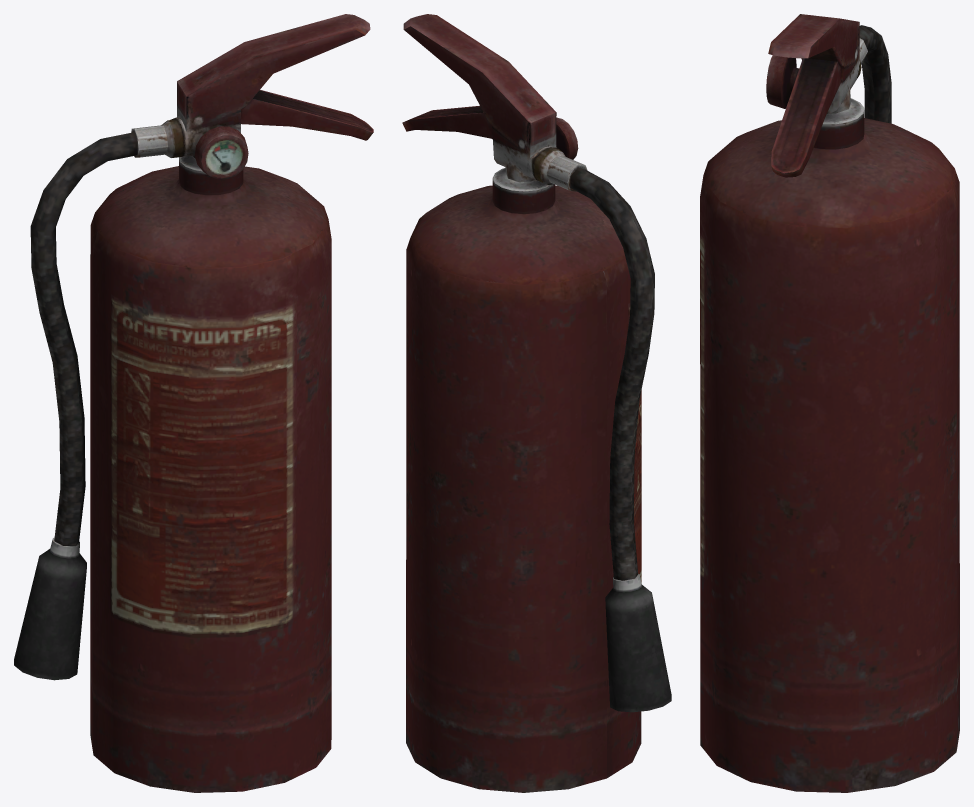
Rendered from fire_extinguisher.glb.
3 renders of one model, left to right at view 1: azimuth 30°, elevation 25°; view 2: azimuth 150°, elevation 25°; view 3: azimuth 270°, elevation 25°, orthographic. The views are drawn at different scales.
Parts seen in each view (by area): view 1: fire_extinguisher_1_2_Material #25_0; view 2: fire_extinguisher_1_2_Material #25_0; view 3: fire_extinguisher_1_2_Material #25_0.
Part boxes in pixels (x1,y1,x2,y2): fire_extinguisher_1_2_Material #25_0: (14,14,373,792); fire_extinguisher_1_2_Material #25_0: (402,14,671,792); fire_extinguisher_1_2_Material #25_0: (700,14,959,792).
Size of the model in its own units: 0.2699 by 0.5833 by 0.1809.
Materials: 1 (1 with a texture image).
